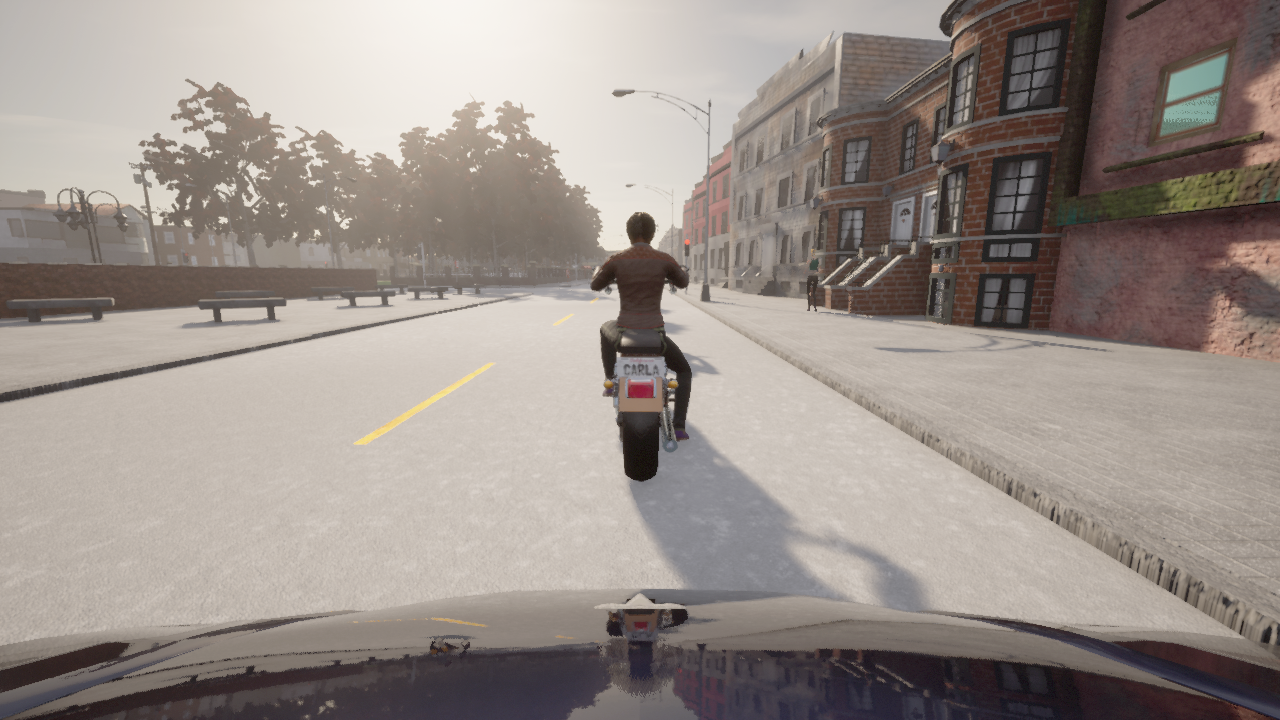cyclist: (0, 588, 1279, 719), (592, 265, 689, 480), (591, 274, 592, 276)
pedestrian: (802, 248, 821, 311), (565, 266, 571, 284)
